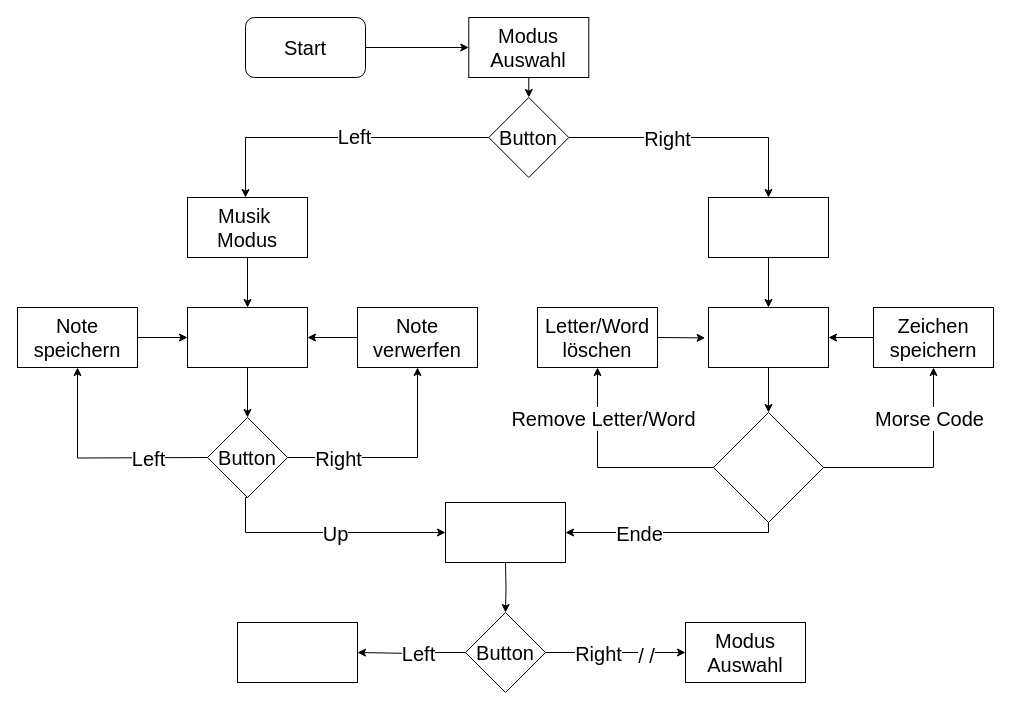
Image size: 1011x710. Some labels were removed from this diagram. The centre of each missing label's shape, as x and y in pixels:
"Ausgabe Blatt" goes at (297,652).
"Eingabe lesen" goes at (768,467).
"Morse Code eingeben" goes at (768,337).
"Morsen Modus" goes at (768,227).
"Note einlegen" goes at (247,337).
"Printen" goes at (505,532).
